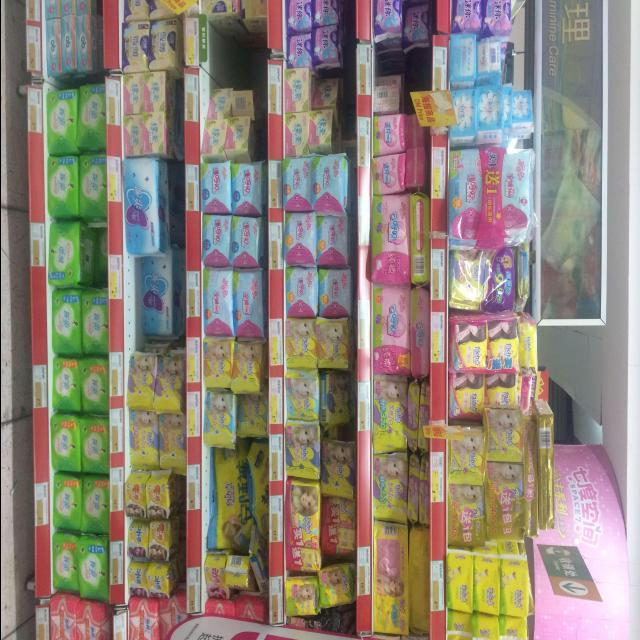empty_space: (207, 31, 255, 81), (376, 48, 408, 72)
